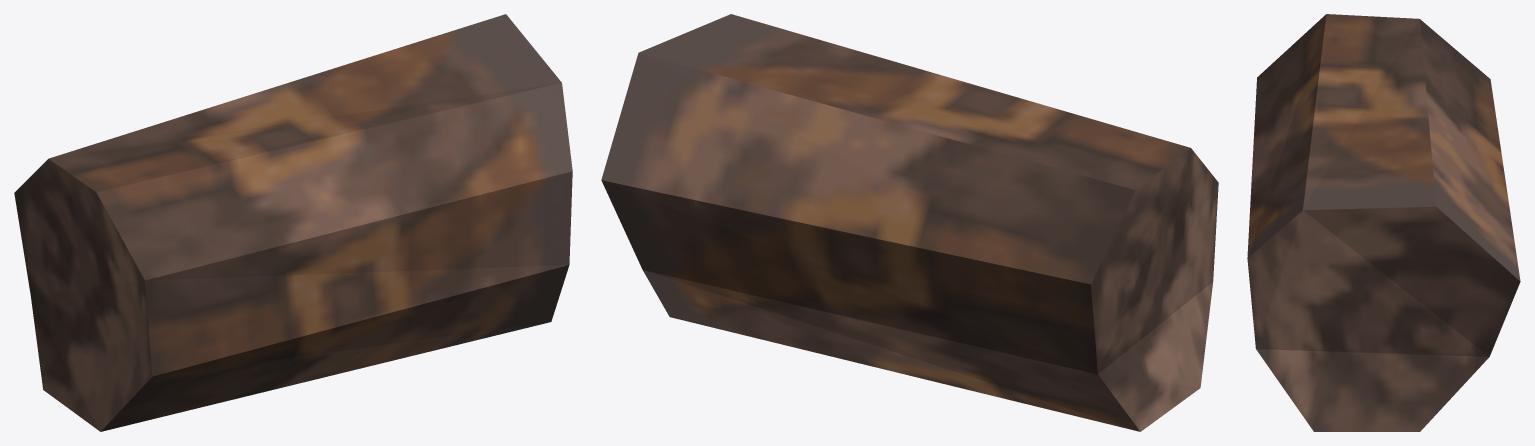
Rendered from SM_Stock_wolf_pelt.fbx.
3 renders of one model, left to right at view 1: azimuth 30°, elevation 25°; view 2: azimuth 150°, elevation 25°; view 3: azimuth 270°, elevation 25°, orthographic. The views are drawn at different scales.
Visible parts, largest first — view 1: Stock_wolf_pelt_Visual; view 2: Stock_wolf_pelt_Visual; view 3: Stock_wolf_pelt_Visual.
Part boxes in pixels (x1,y1,x2,y2): Stock_wolf_pelt_Visual: [14, 14, 572, 431]; Stock_wolf_pelt_Visual: [601, 14, 1218, 431]; Stock_wolf_pelt_Visual: [1247, 14, 1520, 431].
Bounding box in the file's own units: 0.2721 × 0.1402 × 0.1478.
